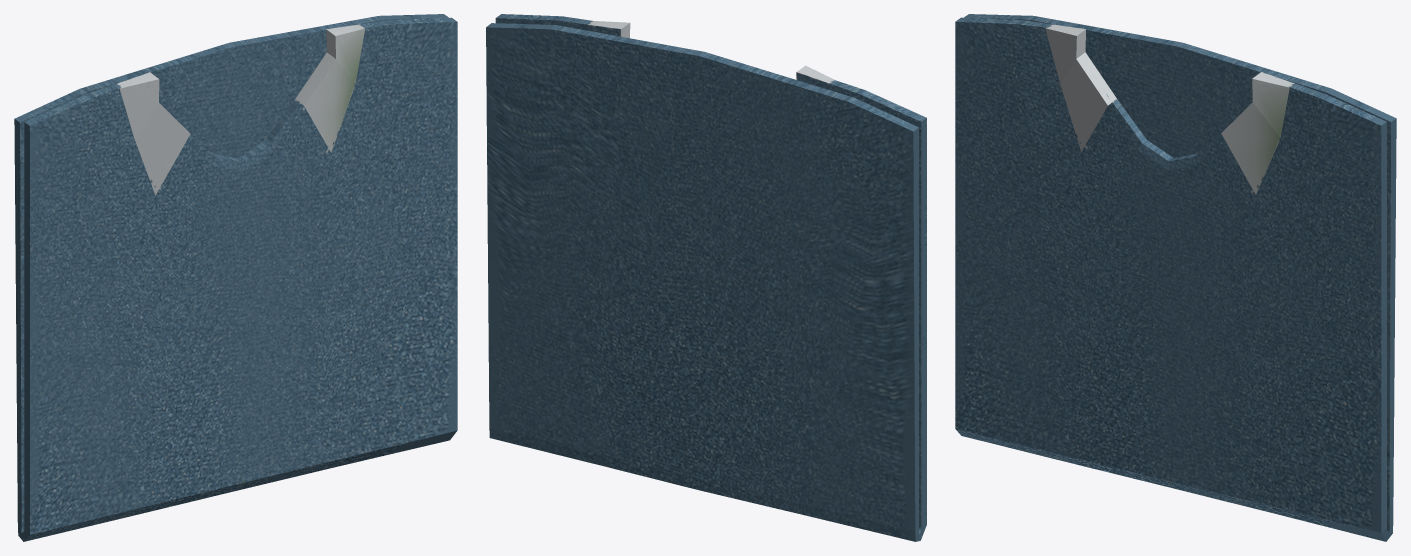
File: polo.fbx
3 views of the same model, side by side, from view 1: azimuth 30°, elevation 25°; view 2: azimuth 150°, elevation 25°; view 3: azimuth 330°, elevation 25° (orthographic).
Visible parts, largest first — view 1: Plane.001; view 2: Plane.001; view 3: Plane.001.
Boxes of the visible parts, left/top/right/bottom form: Plane.001: left=14, top=14, right=457, bottom=541; Plane.001: left=486, top=14, right=926, bottom=541; Plane.001: left=955, top=14, right=1396, bottom=541.
Bounding box in the file's own units: 35.25 × 34.78 × 2.62.
